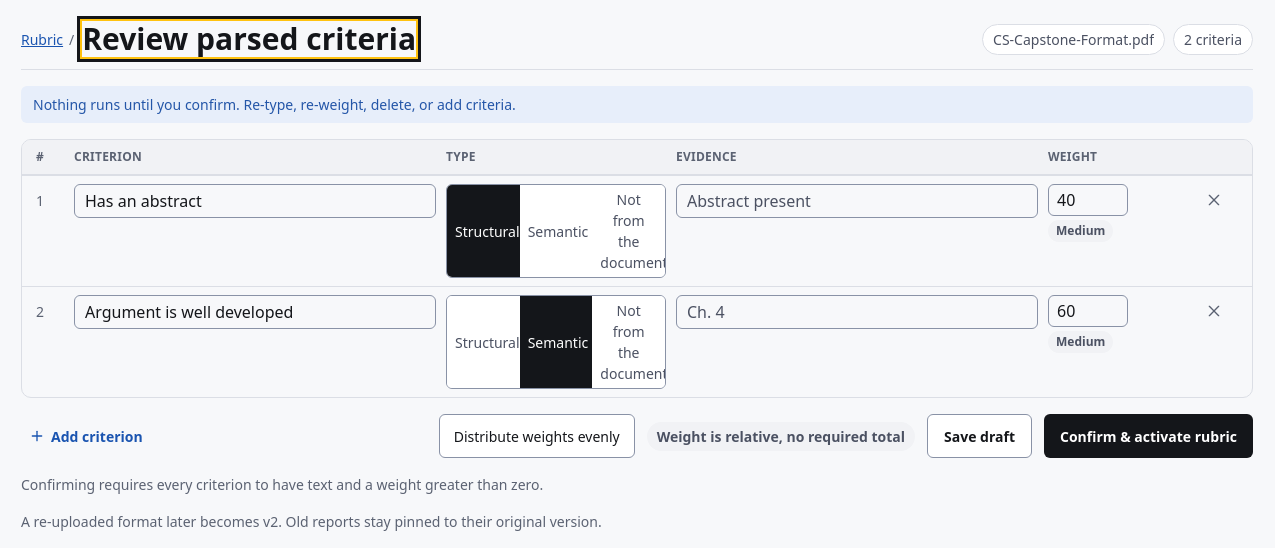
Test: ReviewCriteriaPage › removing every row shows an accessible, focused error summary instead of disabling Save
The width and height of the screenshot is (1275, 548).
Step 1. Click the button named "Remove criterion 1" → (1214,200), box [1198, 184, 1230, 216]
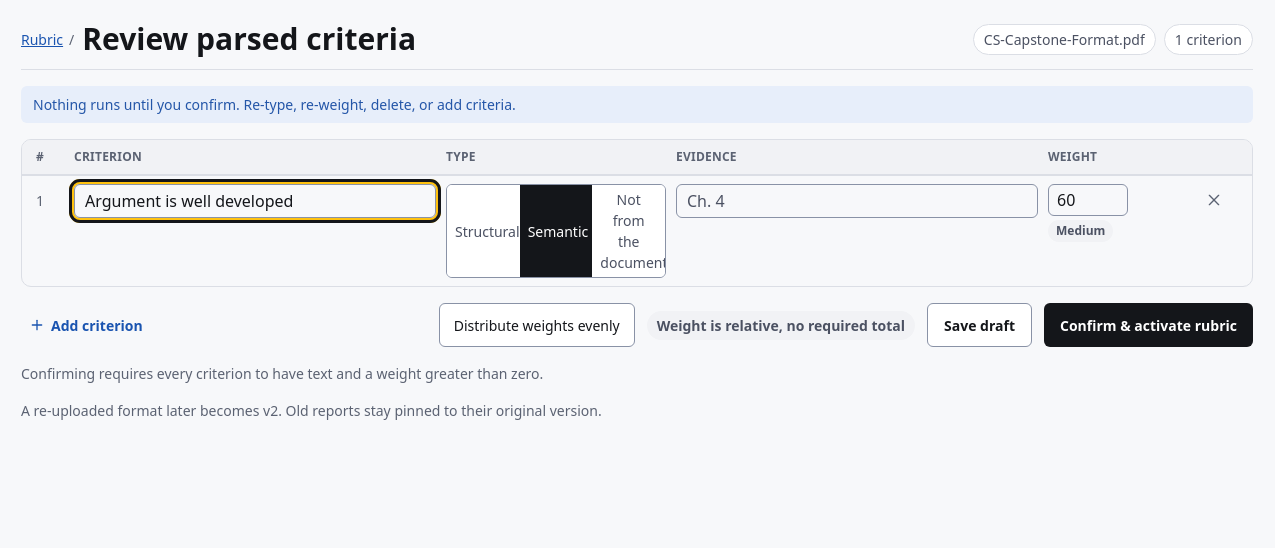
Step 2. Click the button named "Remove criterion 1" → (1214,200), box [1198, 184, 1230, 216]
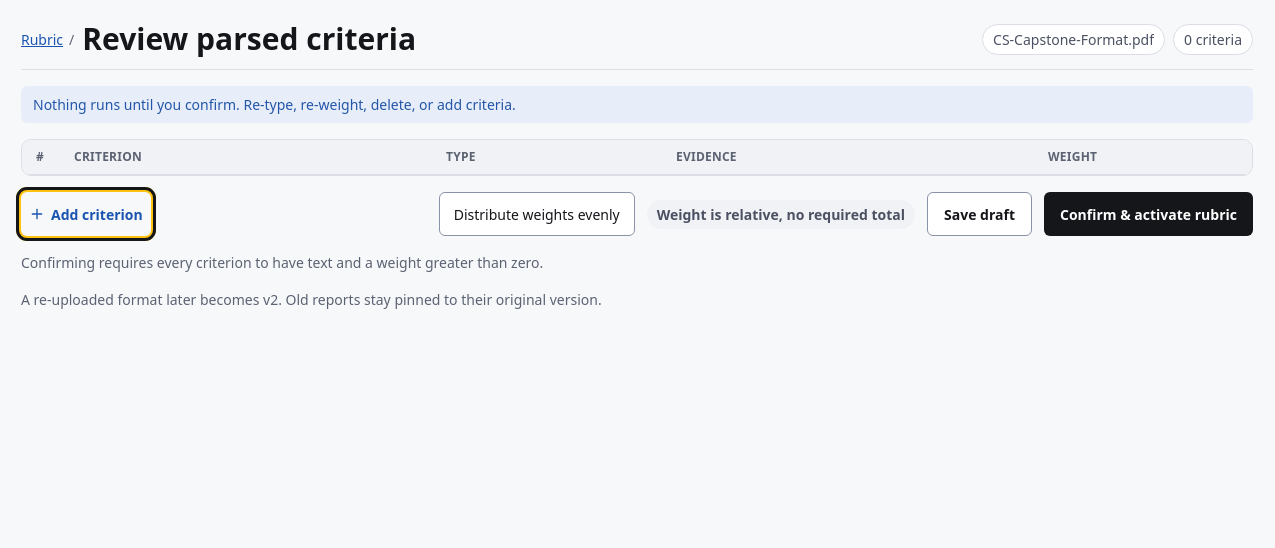
Step 3. Click the button "Save draft" → (980,214), box [927, 192, 1032, 236]
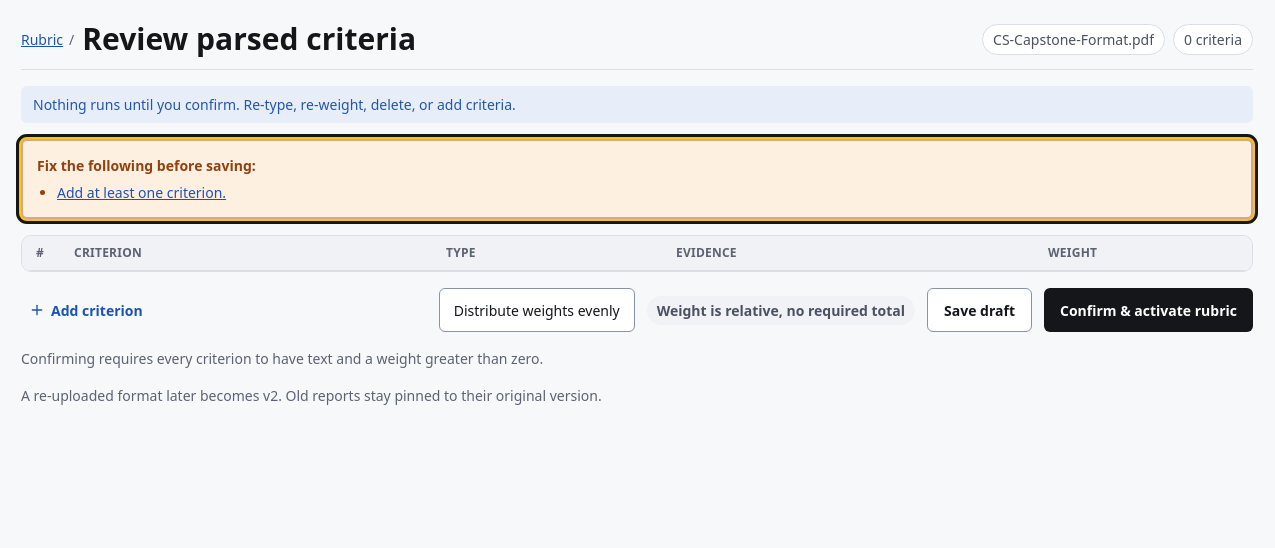
Expected: the message shows "Add at least one criterion.", [57, 182, 226, 203]
